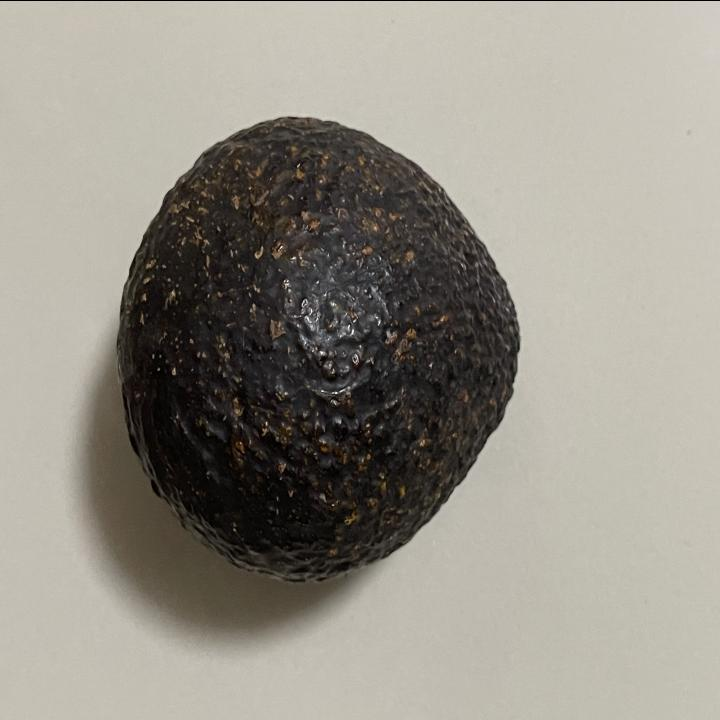Level2: (110, 107, 529, 594)
